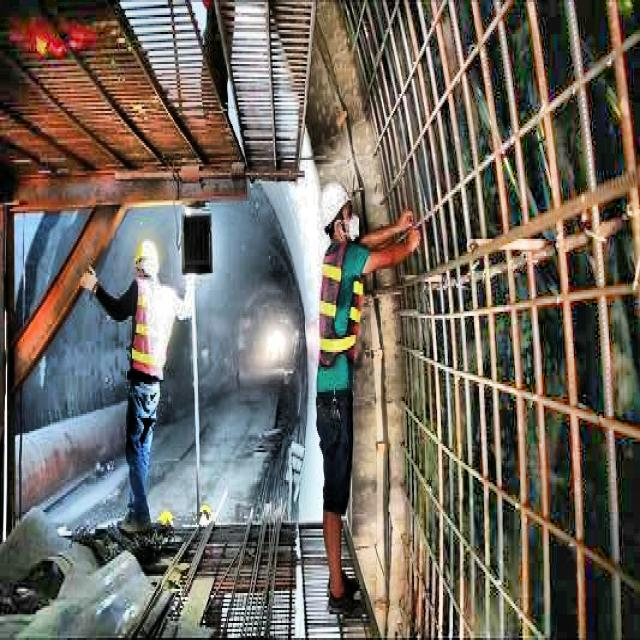helmet: (316, 179, 359, 248), (130, 235, 164, 292)
